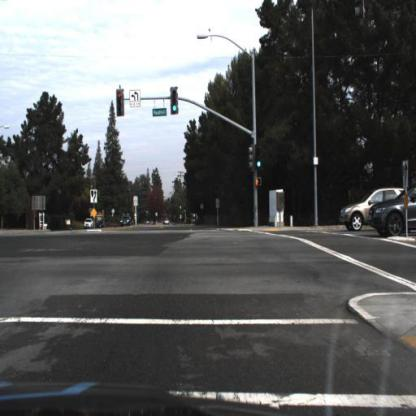car: (339, 188, 407, 232), (367, 187, 416, 238), (337, 191, 367, 236), (118, 214, 134, 229), (82, 216, 96, 233)
trafficLight-Green: (254, 142, 264, 174), (171, 88, 179, 114), (169, 100, 180, 118), (255, 155, 264, 174)
trafficLight-RedLeft: (117, 91, 126, 122), (117, 89, 126, 109)
